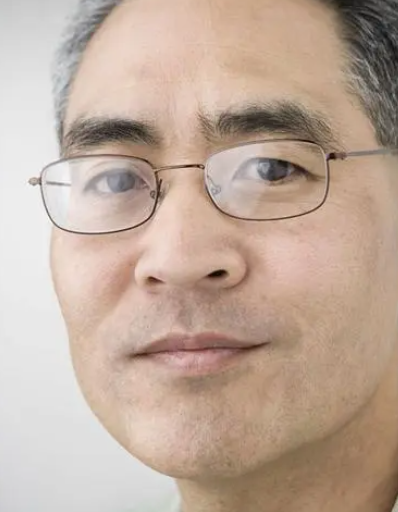glass: (24, 133, 398, 234)
mouth: (118, 315, 277, 383)
